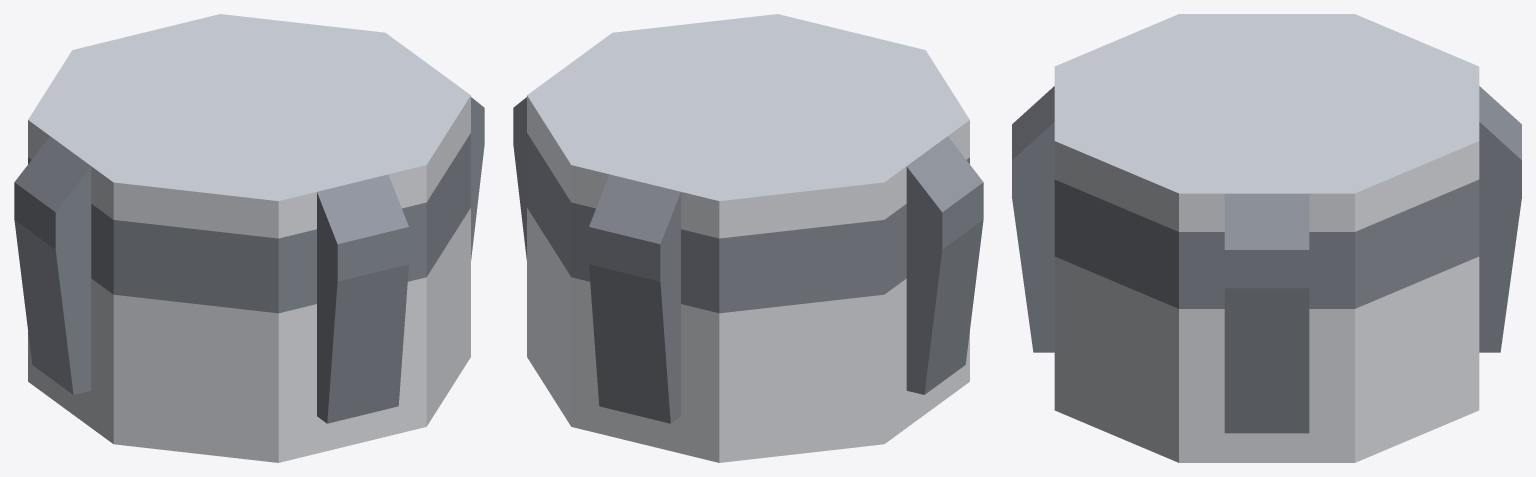
File: rocket_finsA.glb
3 renders of one model, left to right at view 1: azimuth 30°, elevation 25°; view 2: azimuth 150°, elevation 25°; view 3: azimuth 270°, elevation 25°, orthographic. The views are drawn at different scales.
Parts seen in each view (by area): view 1: rocket_finsA; view 2: rocket_finsA; view 3: rocket_finsA.
Part boxes in pixels (bbox=[...]): rocket_finsA: bbox=[14, 14, 484, 462]; rocket_finsA: bbox=[513, 14, 983, 462]; rocket_finsA: bbox=[1012, 14, 1521, 462].
Bounding box in the file's own units: 1.2 × 0.7 × 1.2.
1 material, 1 textured.
